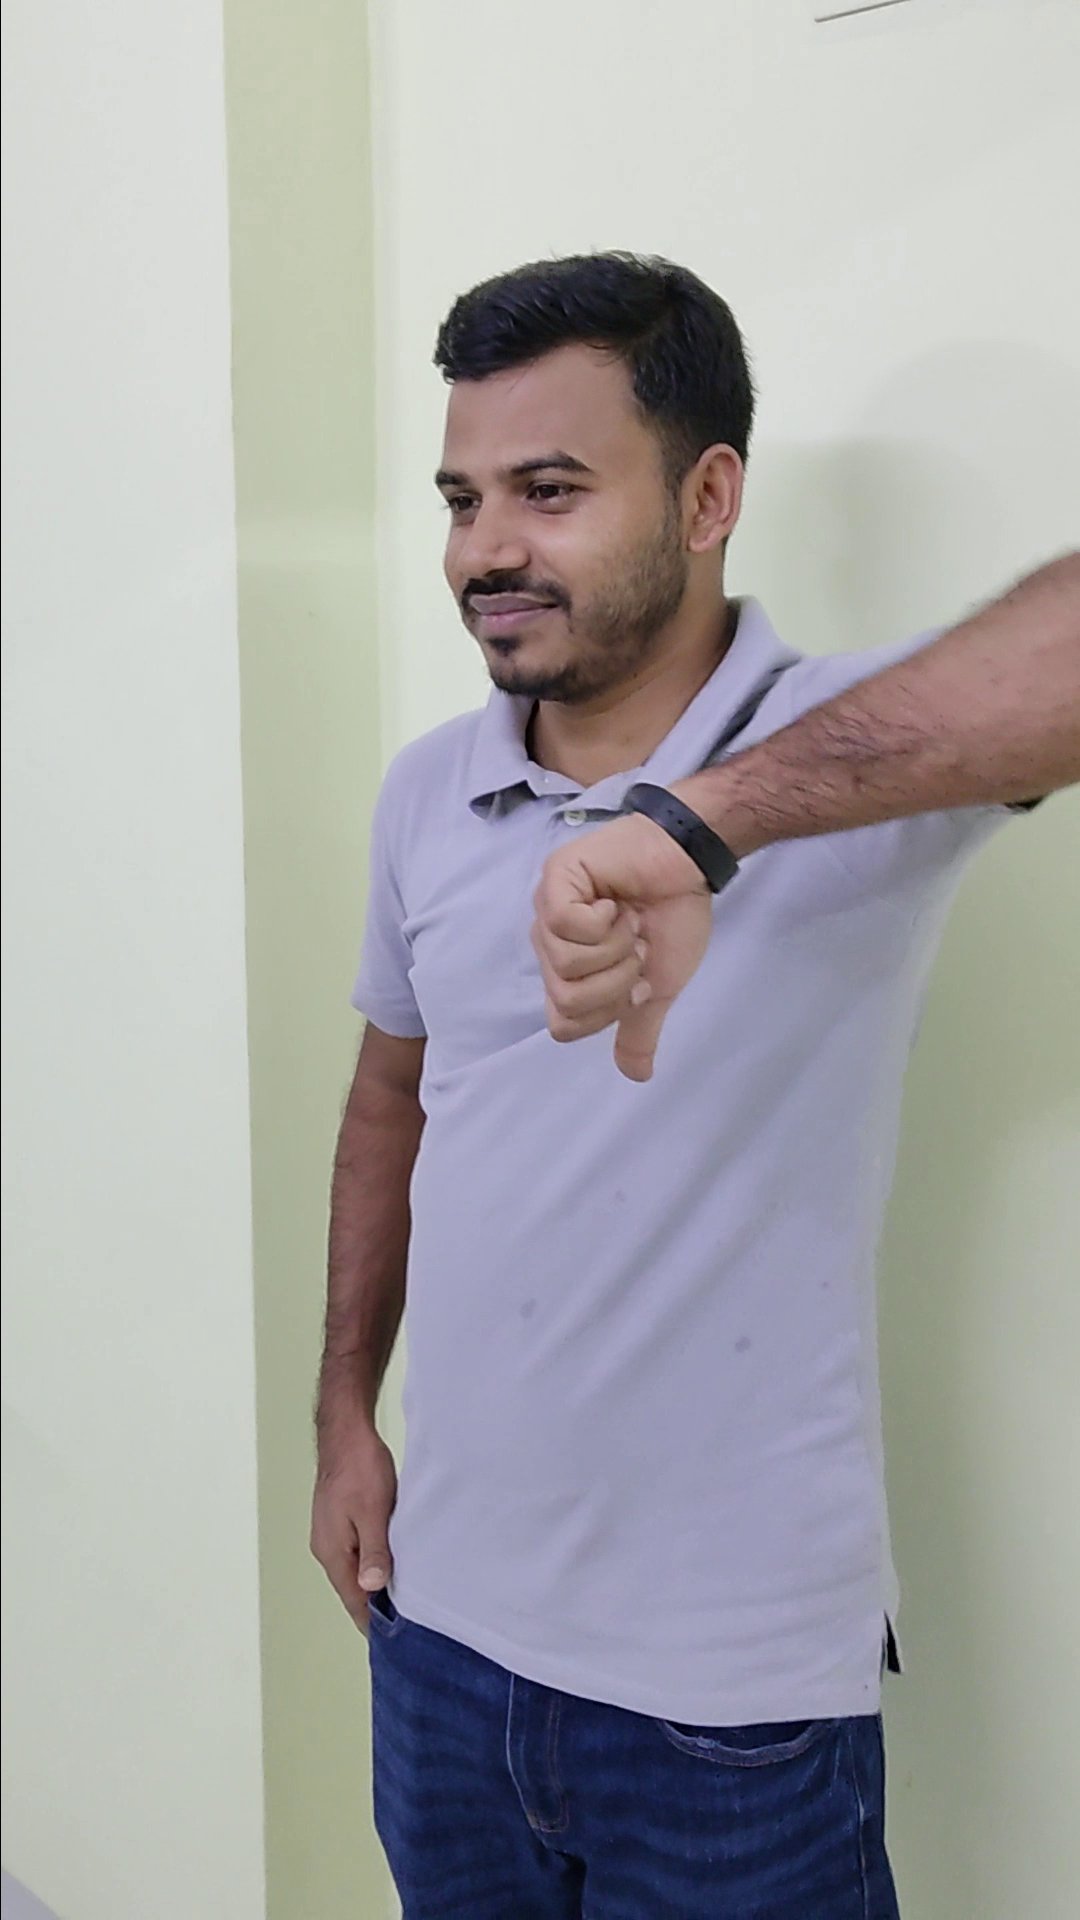Dislike: (513, 771, 742, 1098)
None: (284, 1369, 430, 1662)
